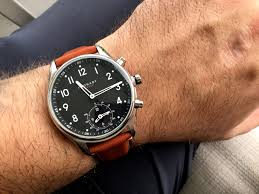clock: (51, 58, 132, 136)
